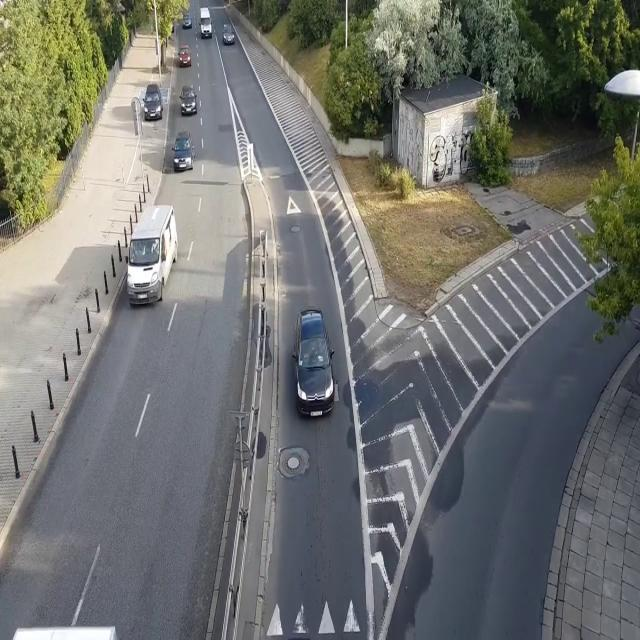car: (292, 307, 336, 419), (172, 132, 196, 172), (142, 84, 163, 120), (179, 84, 198, 116), (178, 44, 192, 67), (222, 22, 235, 45), (182, 14, 192, 29)
van: (126, 204, 178, 306), (198, 7, 212, 39)
